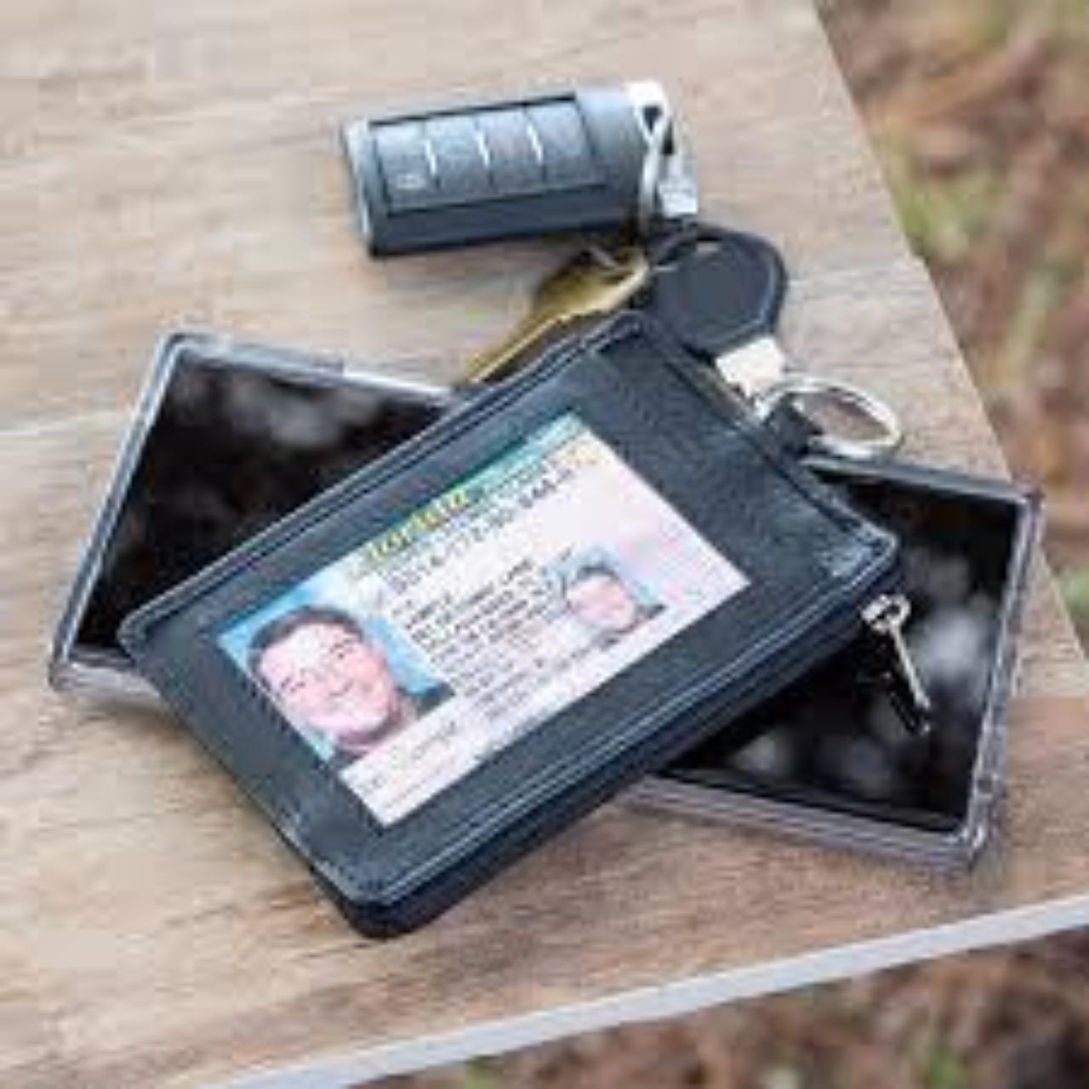wallet: (78, 359, 867, 867)
